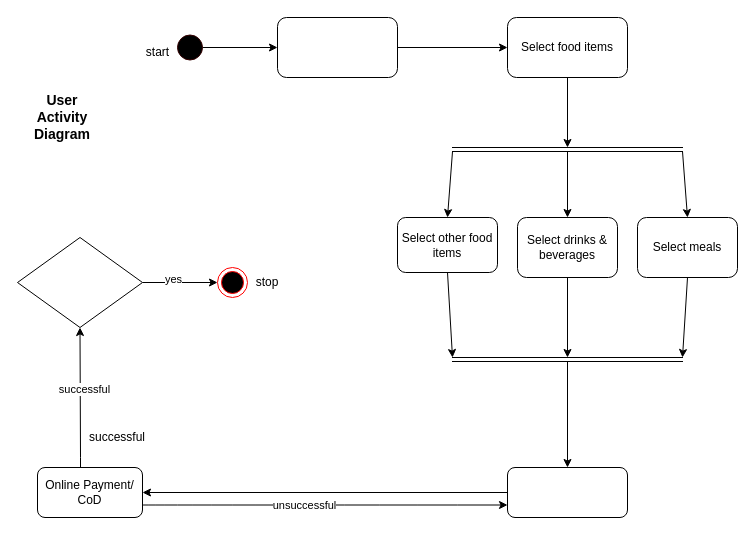
This 755x535 diagram has some shape labels left out. The shapes that lost their labels are listed below. From the top down, each one's centre as x and y in pixels, then its label:
At (x=337, y=47): "Login/Register".
At (x=79, y=282): "OTP received order confirmed".
At (x=567, y=492): "Suggestion and confirm the order.".
